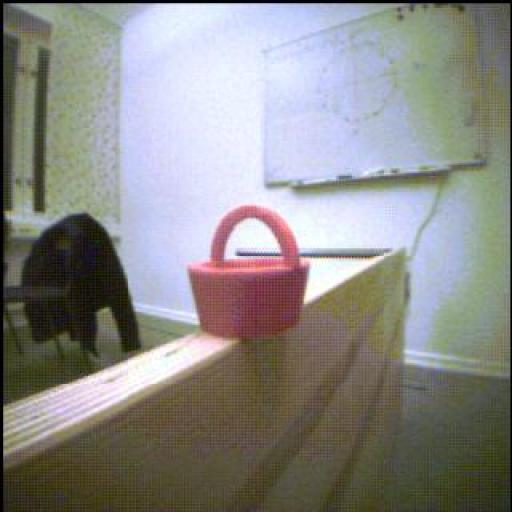Bucket: (188, 206, 310, 339)
